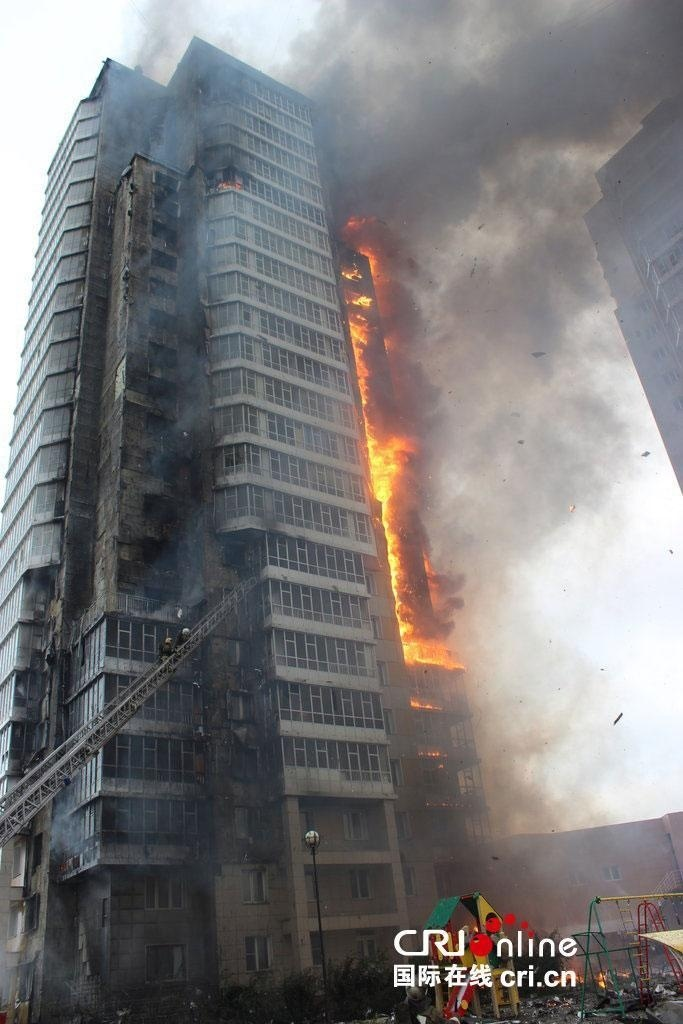fire: (345, 223, 425, 672), (405, 692, 436, 711)
